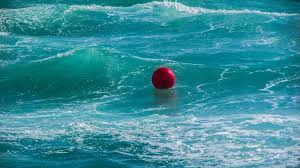buoy: (152, 68, 175, 89)
